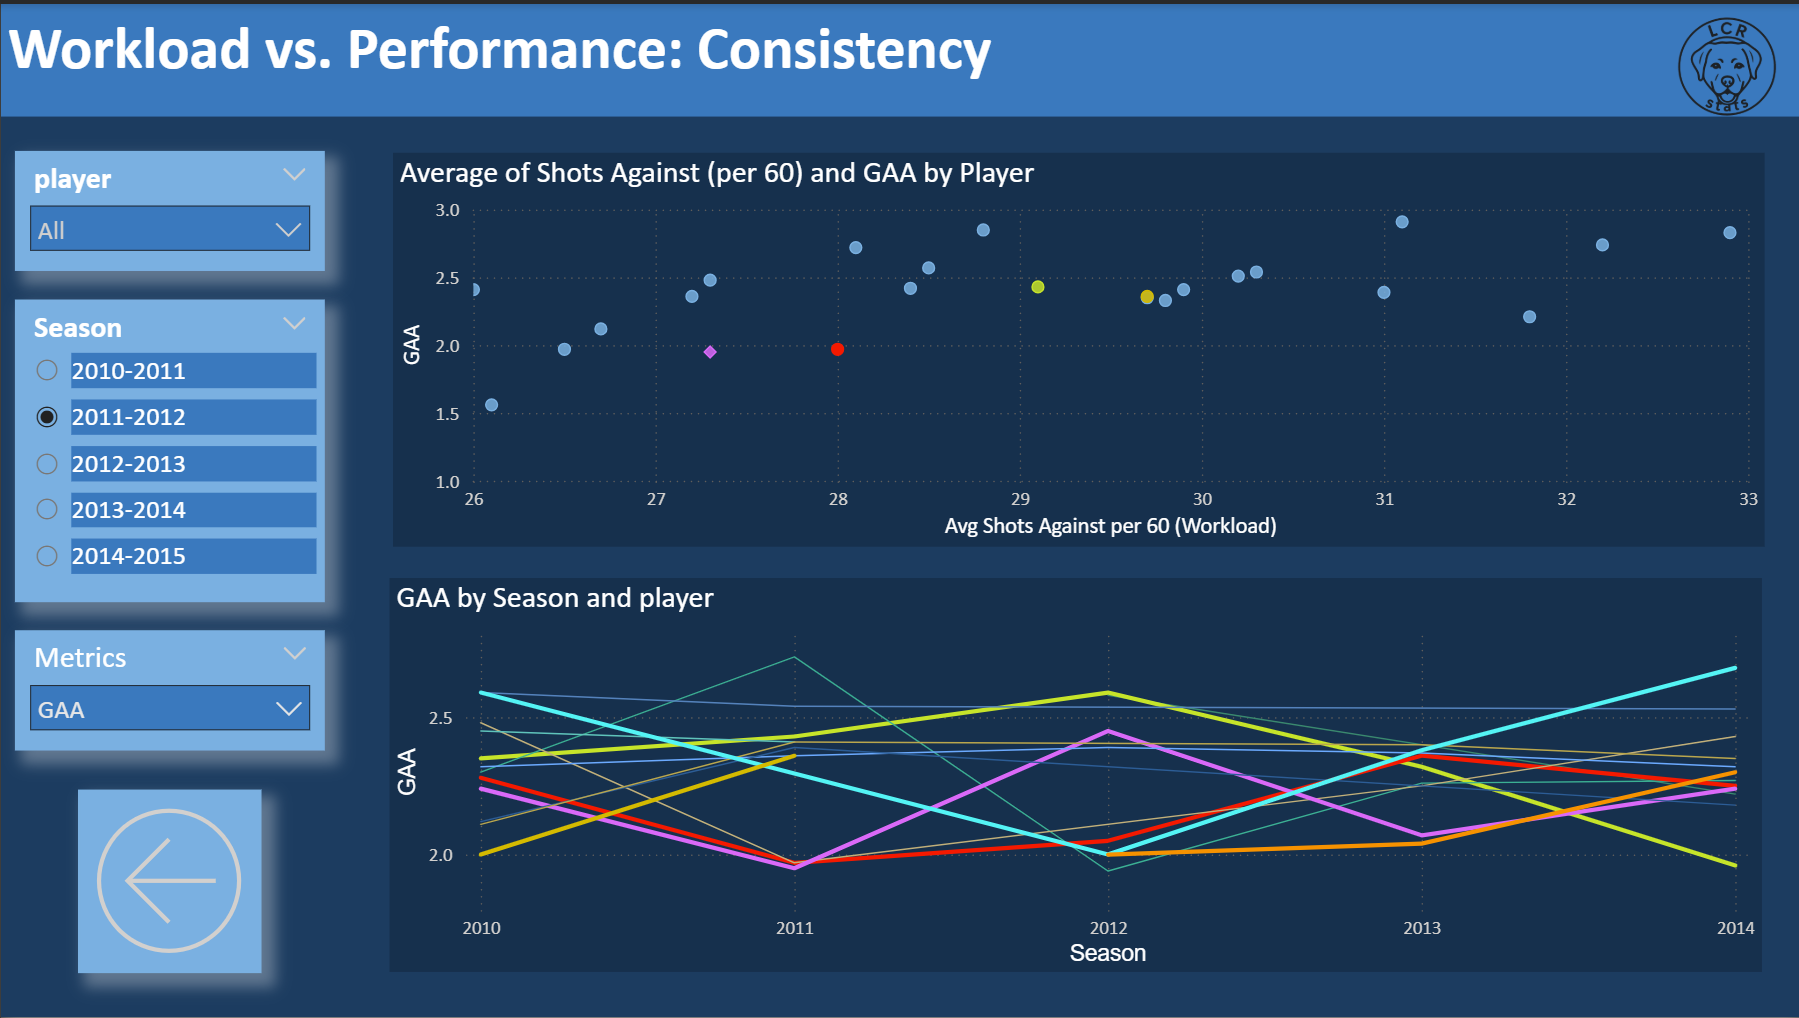

What the dashboard file says about the page in this screenshot:
{"tool":"powerbi","page":{"name":"Consistency","canvas":[1280,720],"ordinal":3},"visuals":[{"type":"textbox","box":[0,0,1280,80],"z":0},{"type":"slicer","fields":{"Values":["nhl goalies 2010-2014.Season"]},"box":[10,210,220,215],"z":1000},{"type":"slicer","fields":{"Values":["nhl goalies 2010-2014.player"]},"box":[10,105,220,85],"z":2000},{"type":"actionButton","box":[55,558.3,130,130],"z":3000},{"type":"slicer","fields":{"Values":["Metrics.Metrics"]},"box":[9.6,445.3,220.3,85],"z":4000},{"type":"scatterChart","title":"Average of Shots Against (per 60) and GAA  by Player","fields":{"Y":["nhl goalies 2010-2014.GAA Measure"],"X":["Avg(nhl goalies 2010-2014.sa_per_60)"],"Category":["nhl goalies 2010-2014.player"]},"box":[278,106,975,280],"z":5000},{"type":"lineChart","fields":{"Y":["nhl goalies 2010-2014.GAA Measure"],"Category":["nhl goalies 2010-2014.Season Sort"],"Series":["nhl goalies 2010-2014.player"]},"box":[276.7,408,975.3,280.2],"z":6000},{"type":"image","box":[1174.7,0,105.3,90],"z":7000}]}

Visuals, with their boxes in screenshot pixels (x1, y1, x2, y2), scaled from the page's 1280x720 canvas onto the 1799x1018 screenshot:
textbox: <bbox>0, 0, 1798, 113</bbox>
slicer - nhl goalies 2010-2014.Season: <bbox>14, 297, 323, 601</bbox>
slicer - nhl goalies 2010-2014.player: <bbox>14, 148, 323, 269</bbox>
actionButton: <bbox>77, 789, 260, 973</bbox>
slicer - Metrics.Metrics: <bbox>13, 630, 323, 750</bbox>
"Average of Shots Against (per 60) and GAA  by Player" scatterChart: <bbox>391, 150, 1761, 546</bbox>
lineChart - nhl goalies 2010-2014.GAA Measure x nhl goalies 2010-2014.Season Sort: <bbox>389, 577, 1760, 973</bbox>
image: <bbox>1651, 0, 1798, 127</bbox>
